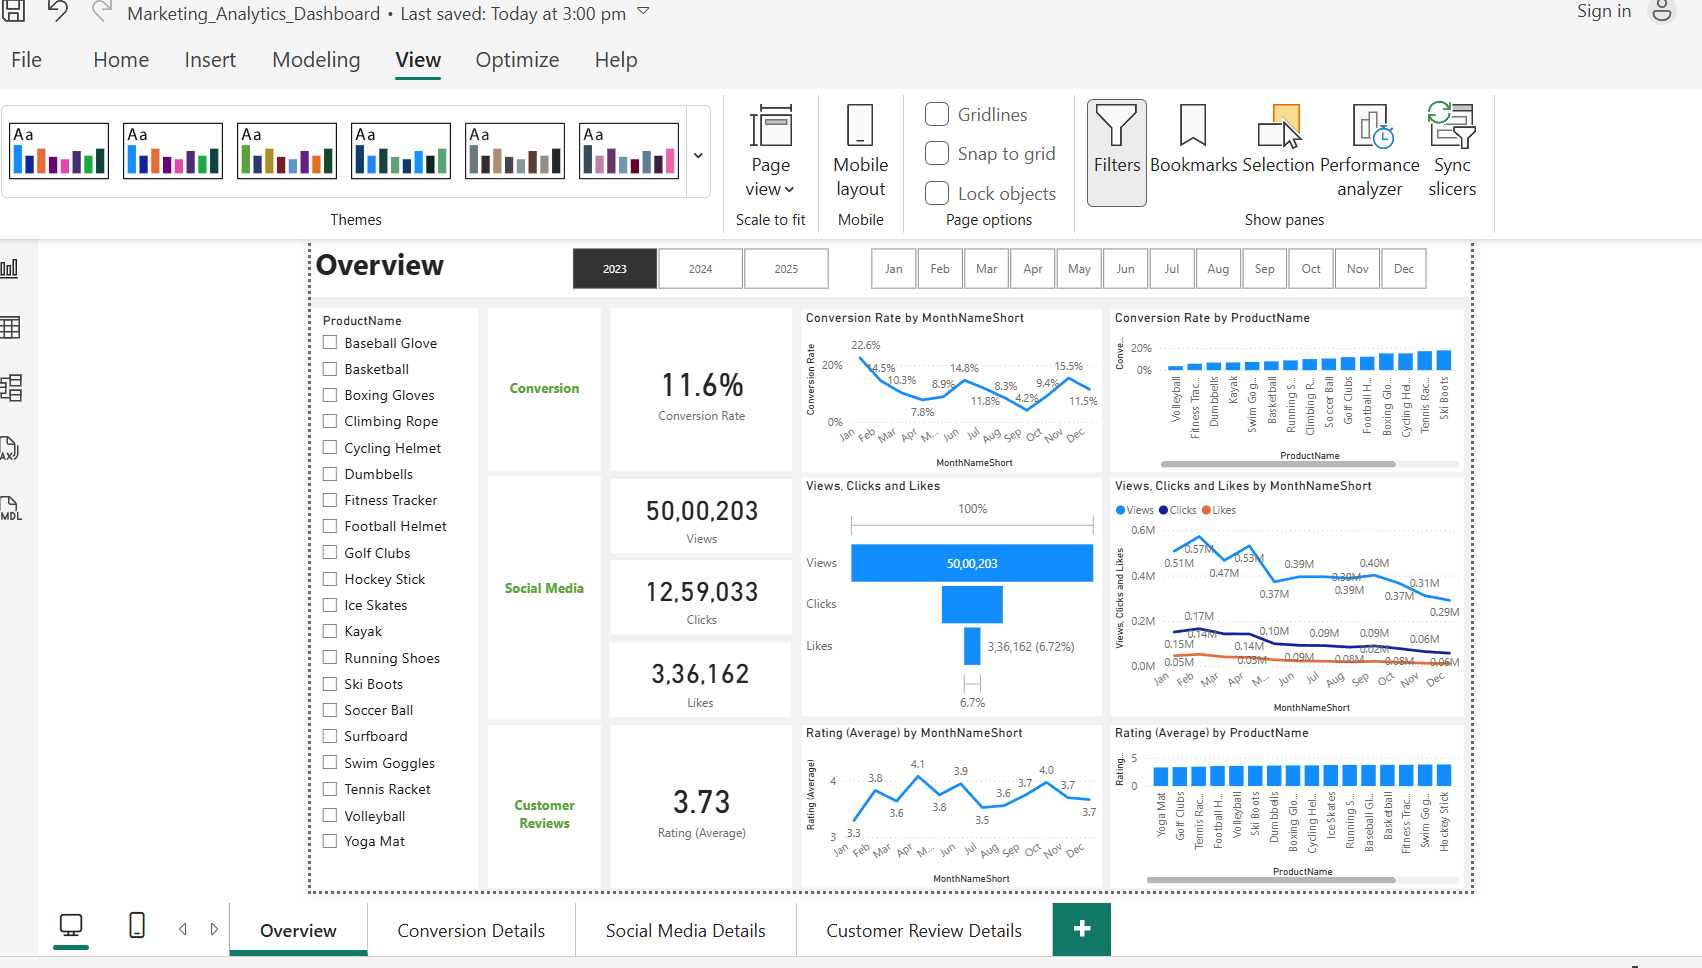

The page's visual inventory and layout, read from the dashboard file:
{"tool":"powerbi","page":{"name":"Overview","canvas":[1280,720],"ordinal":0},"visuals":[{"type":"textbox","box":[0,0,1280,64.2],"z":0},{"type":"slicer","fields":{"Values":["dim_products.ProductName"]},"box":[0,76.1,184.4,643.6],"z":1000},{"type":"textbox","box":[196.3,76.1,124.9,180],"z":2000},{"type":"textbox","box":[196.3,261.9,124.9,268.8],"z":3000},{"type":"textbox","box":[196.3,536.5,124.9,180],"z":4000},{"type":"card","fields":{"Values":["_Calculations.Conversion Rate"]},"box":[330.7,76.1,199.9,180],"z":5000},{"type":"card","fields":{"Values":["_Calculations.Rating (Average)"]},"box":[330.7,536.5,199.9,180],"z":6000},{"type":"card","fields":{"Values":["_Calculations.Views"]},"box":[330.7,264.7,199.9,82.1],"z":7000},{"type":"card","fields":{"Values":["_Calculations.Clicks"]},"box":[330.7,355.3,199.9,82.1],"z":8000},{"type":"card","fields":{"Values":["_Calculations.Likes"]},"box":[329.5,445.9,199.9,82.1],"z":9000},{"type":"slicer","fields":{"Values":["Calendar.Year"]},"box":[264.1,3.6,331.9,58.3],"z":10000},{"type":"slicer","fields":{"Values":["Calendar.MonthNameShort"]},"box":[592.4,3.6,662.6,58.3],"z":11000},{"type":"lineChart","fields":{"Y":["_Calculations.Conversion Rate"],"Category":["Calendar.MonthNameShort"]},"box":[541.3,77.3,331.9,180],"z":12000},{"type":"clusteredColumnChart","fields":{"Category":["dim_products.ProductName"],"Y":["_Calculations.Conversion Rate"]},"box":[882.7,78.5,390.2,179.6],"z":13000},{"type":"lineChart","fields":{"Category":["Calendar.MonthNameShort"],"Y":["_Calculations.Views","_Calculations.Clicks","_Calculations.Likes"]},"box":[882.7,264.1,390.2,264.1],"z":14000},{"type":"funnel","fields":{"Y":["_Calculations.Views","_Calculations.Clicks","_Calculations.Likes"]},"box":[541.3,264.1,331.9,264.1],"z":15000},{"type":"lineChart","fields":{"Y":["_Calculations.Rating (Average)"],"Category":["Calendar.MonthNameShort"]},"box":[541.3,536.5,331.9,179.6],"z":16000},{"type":"clusteredColumnChart","fields":{"Y":["_Calculations.Rating (Average)"],"Category":["dim_products.ProductName"]},"box":[883,537,390,180],"z":17000}]}

Visuals, with their boxes on the page's 1280x720 design canvas (x1, y1, x2, y2). These are canvas units, not pixel positions in the 1702x968 screenshot, which may show the page scaled, cropped or inside an application window:
textbox: bbox(0, 0, 1280, 64)
slicer - dim_products.ProductName: bbox(0, 76, 184, 720)
textbox: bbox(196, 76, 321, 256)
textbox: bbox(196, 262, 321, 531)
textbox: bbox(196, 536, 321, 716)
card - _Calculations.Conversion Rate: bbox(331, 76, 531, 256)
card - _Calculations.Rating (Average): bbox(331, 536, 531, 716)
card - _Calculations.Views: bbox(331, 265, 531, 347)
card - _Calculations.Clicks: bbox(331, 355, 531, 437)
card - _Calculations.Likes: bbox(330, 446, 529, 528)
slicer - Calendar.Year: bbox(264, 4, 596, 62)
slicer - Calendar.MonthNameShort: bbox(592, 4, 1255, 62)
lineChart - _Calculations.Conversion Rate x Calendar.MonthNameShort: bbox(541, 77, 873, 257)
clusteredColumnChart - dim_products.ProductName x _Calculations.Conversion Rate: bbox(883, 78, 1273, 258)
lineChart - Calendar.MonthNameShort x _Calculations.Views: bbox(883, 264, 1273, 528)
funnel - _Calculations.Views x _Calculations.Clicks: bbox(541, 264, 873, 528)
lineChart - _Calculations.Rating (Average) x Calendar.MonthNameShort: bbox(541, 536, 873, 716)
clusteredColumnChart - _Calculations.Rating (Average) x dim_products.ProductName: bbox(883, 537, 1273, 717)
